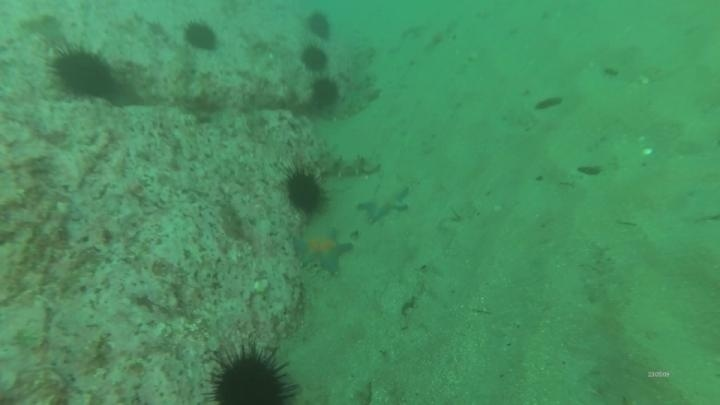echinus: (205, 343, 300, 404), (48, 43, 120, 103), (282, 166, 329, 217), (181, 19, 221, 54), (308, 76, 342, 110), (303, 10, 335, 42), (299, 43, 331, 74)
holothurian: (308, 143, 382, 182), (323, 80, 382, 123)
starfish: (292, 224, 354, 276), (355, 180, 413, 226)
